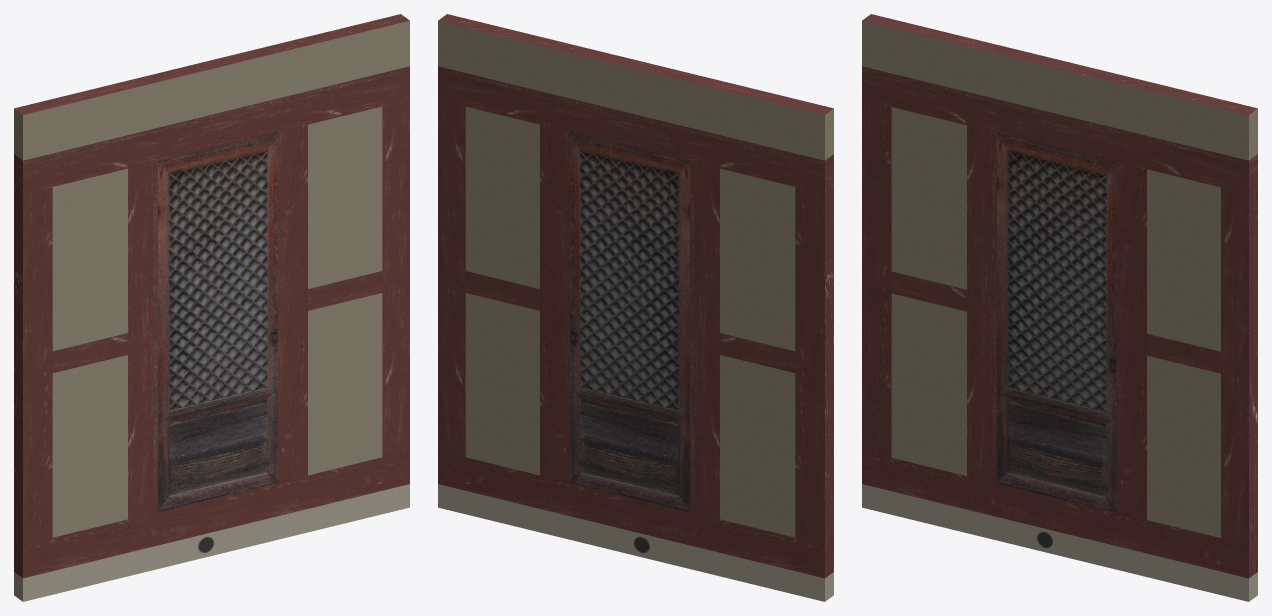
Rendered from SM_Sun_Pal_Wall_D.fbx.
The picture shows the model from 3 angles, left to right: view 1: azimuth 30°, elevation 25°; view 2: azimuth 150°, elevation 25°; view 3: azimuth 330°, elevation 25°; orthographic projection.
Parts seen in each view (by area): view 1: SM_Sun_Pal_Wall_D; view 2: SM_Sun_Pal_Wall_D; view 3: SM_Sun_Pal_Wall_D.
Boxes of the visible parts, x1,y1,x2,y2 form: SM_Sun_Pal_Wall_D: [14, 14, 409, 601]; SM_Sun_Pal_Wall_D: [438, 14, 833, 601]; SM_Sun_Pal_Wall_D: [862, 14, 1257, 601].
Bounding box in the file's own units: 245 × 295 × 10.
